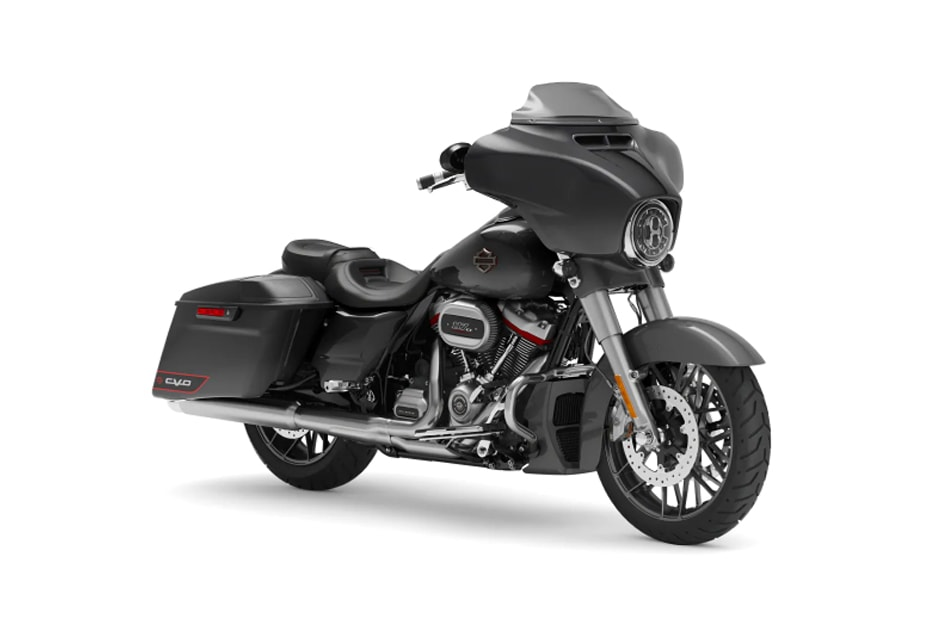motorcycle: (161, 135, 775, 544)
